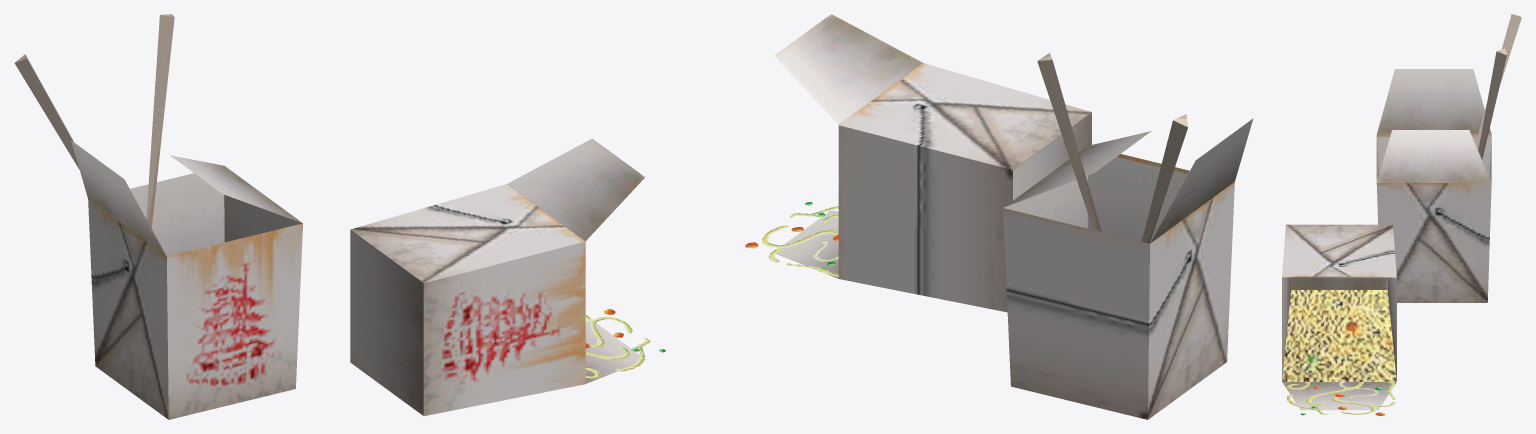
File: litter_chinesefood.fbx
3 renders of one model, left to right at view 1: azimuth 30°, elevation 25°; view 2: azimuth 150°, elevation 25°; view 3: azimuth 270°, elevation 25°, orthographic. The views are drawn at different scales.
Visible parts, largest first — view 1: mesh_0; view 2: mesh_0; view 3: mesh_0.
Part boxes in pixels (x1,y1,x2,y2): mesh_0: [14, 14, 665, 419]; mesh_0: [745, 14, 1253, 419]; mesh_0: [1282, 14, 1521, 415].
Size of the model in its own units: 45.46 by 27.5 by 25.07.
Materials: 1 (1 with a texture image).
